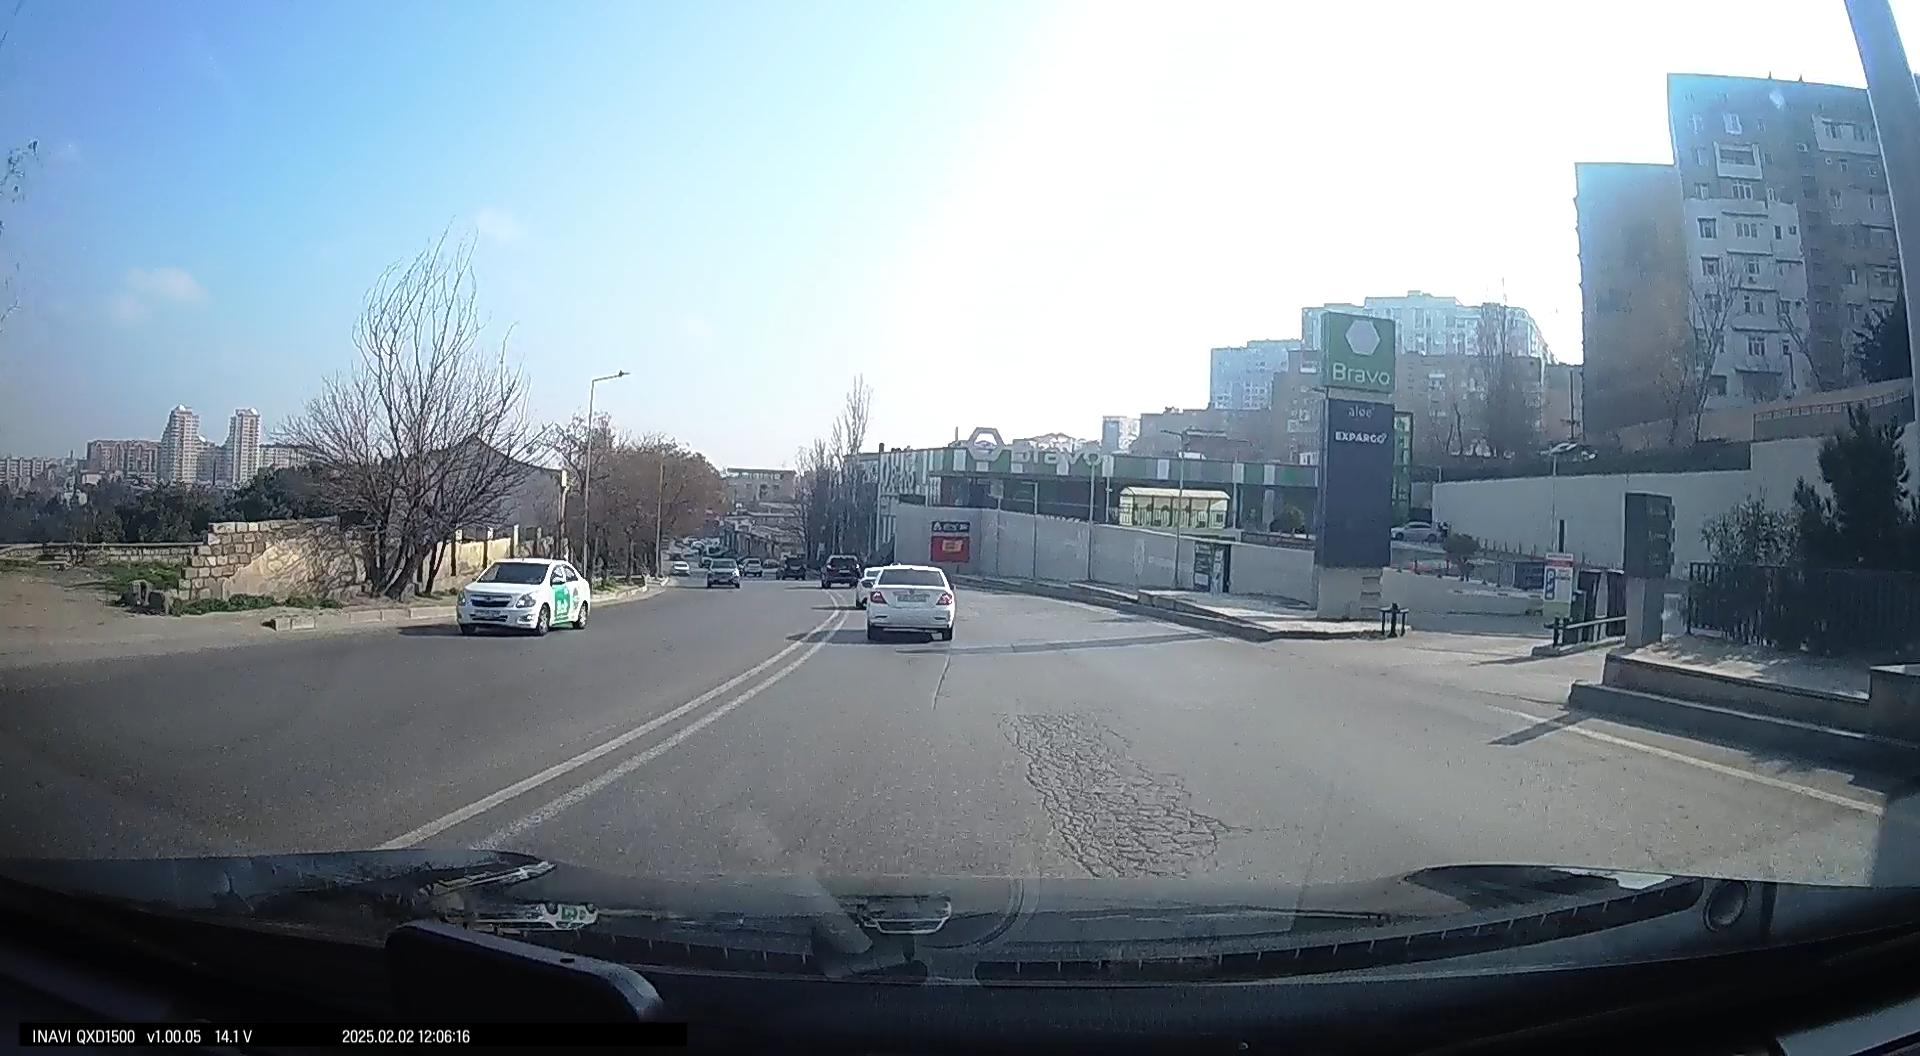banner: (1319, 309, 1388, 575)
